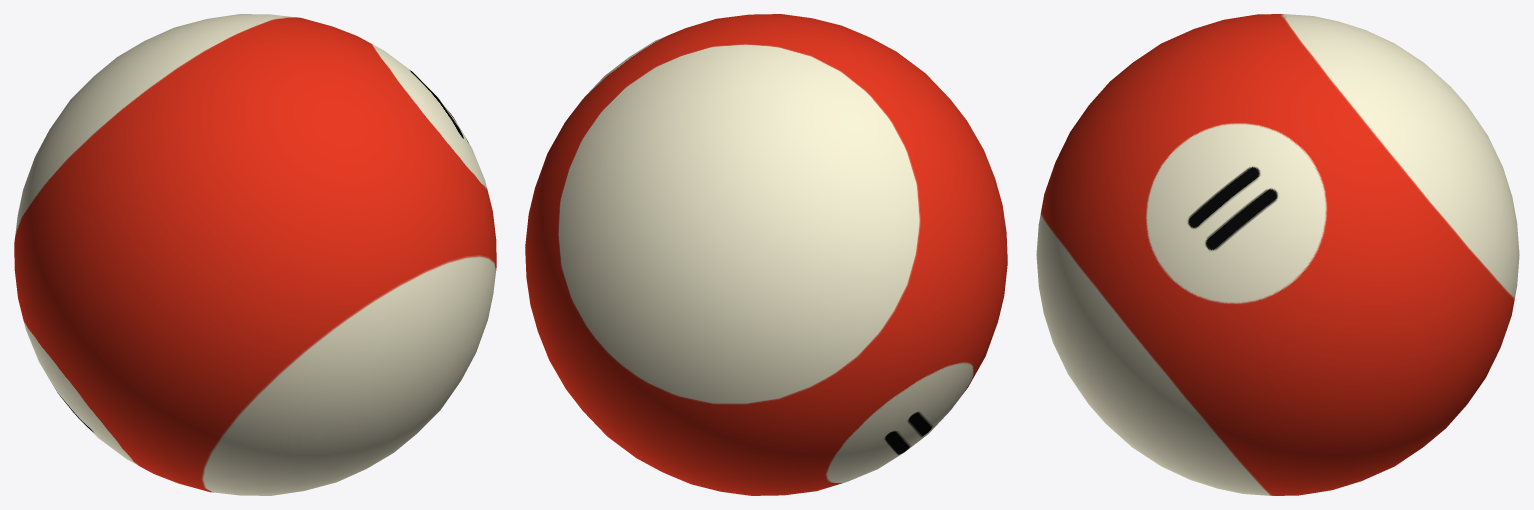
The model's file is bola8.obj.
3 renders of one model, left to right at view 1: azimuth 30°, elevation 25°; view 2: azimuth 150°, elevation 25°; view 3: azimuth 270°, elevation 25°, orthographic.
Visible parts, largest first — view 1: 11_Ball; view 2: 11_Ball; view 3: 11_Ball.
Boxes of the visible parts, x1=… form: 11_Ball: x1=14, y1=14, x2=496, y2=495; 11_Ball: x1=525, y1=14, x2=1007, y2=495; 11_Ball: x1=1036, y1=14, x2=1519, y2=495.
Size of the model in its own units: 0.0508 by 0.0508 by 0.051.
1 material, 1 textured.
